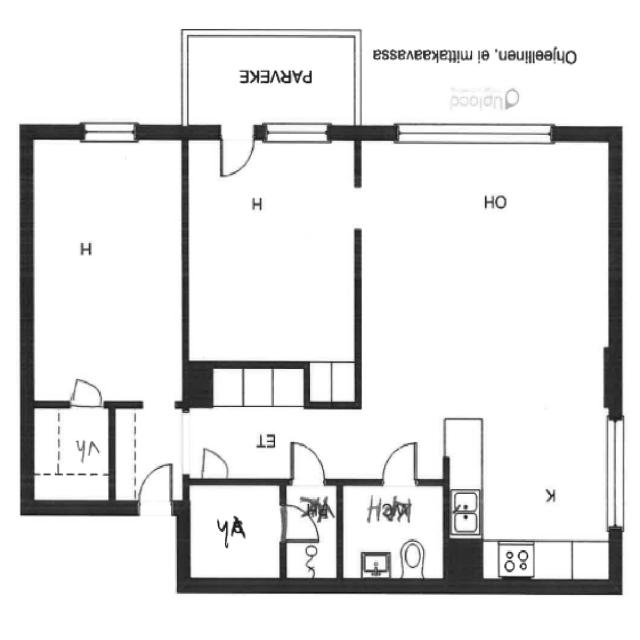door: (275, 497, 331, 549), (132, 458, 178, 521), (375, 437, 425, 491), (214, 123, 258, 181), (284, 438, 335, 488), (62, 372, 108, 414), (191, 442, 235, 483)
window: (362, 136, 618, 402), (381, 118, 566, 152), (598, 411, 632, 537), (257, 110, 341, 150), (74, 112, 146, 146)
zone: (30, 127, 186, 404), (357, 136, 623, 298), (184, 131, 362, 368), (448, 401, 618, 584), (189, 366, 356, 480), (336, 480, 448, 584), (183, 480, 286, 584), (30, 403, 113, 510), (279, 484, 338, 584)
